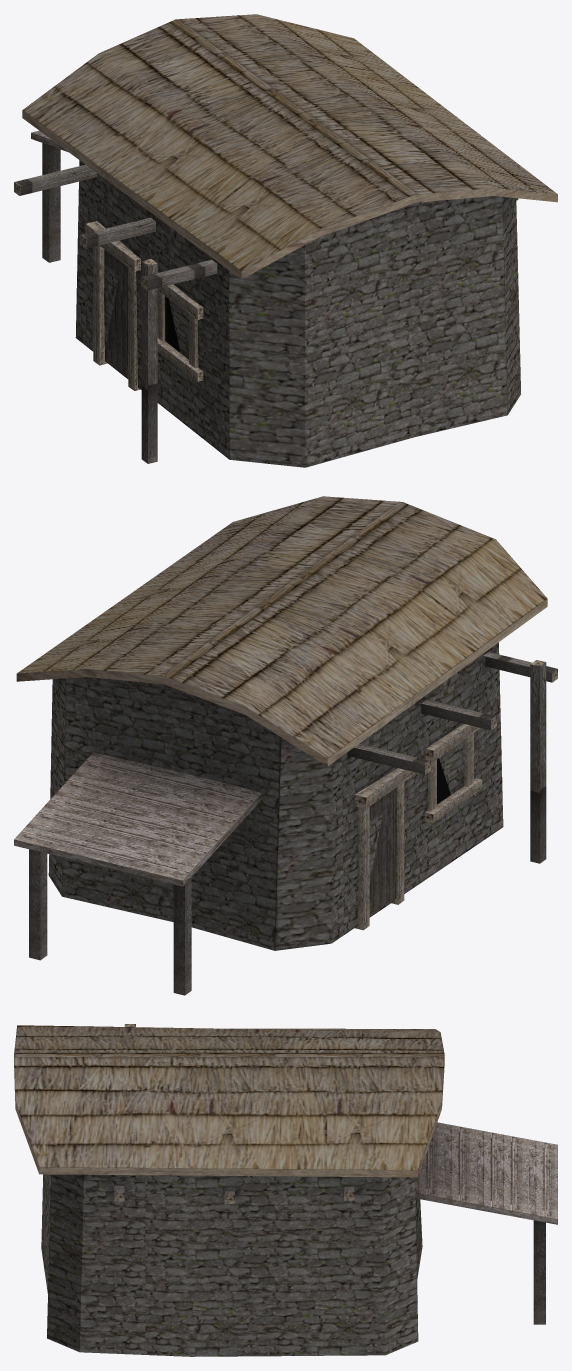
File: house_02.FBX
3 renders of one model, top to bottom at view 1: azimuth 30°, elevation 25°; view 2: azimuth 150°, elevation 25°; view 3: azimuth 270°, elevation 25°, orthographic. The views are drawn at different scales.
Visible parts, largest first — view 1: Box002; view 2: Box002; view 3: Box002.
Boxes of the visible parts, x1=… form: Box002: x1=14, y1=14, x2=557, y2=467; Box002: x1=14, y1=496, x2=557, y2=995; Box002: x1=14, y1=1024, x2=557, y2=1356.
Bounding box in the file's own units: 54.53 × 76.1 × 36.62.
